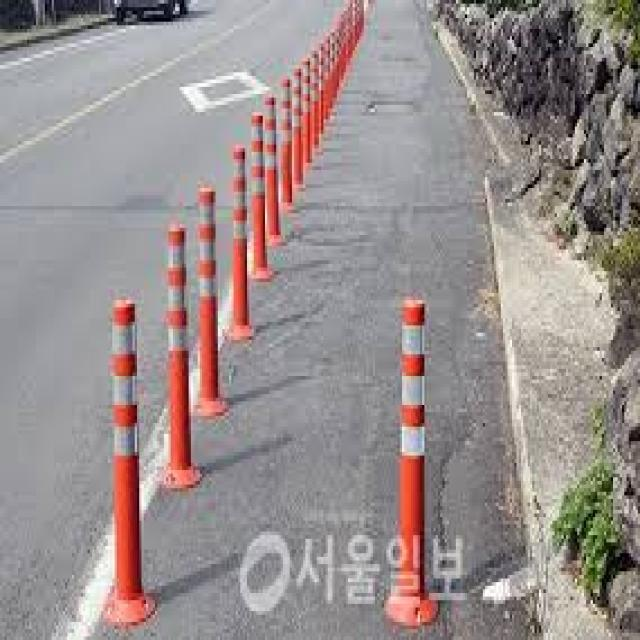bollard: (382, 289, 448, 640), (94, 295, 159, 639), (155, 215, 205, 500), (217, 134, 253, 348), (194, 178, 223, 426), (243, 115, 276, 302), (261, 89, 284, 257), (276, 71, 298, 221), (284, 53, 306, 193)
